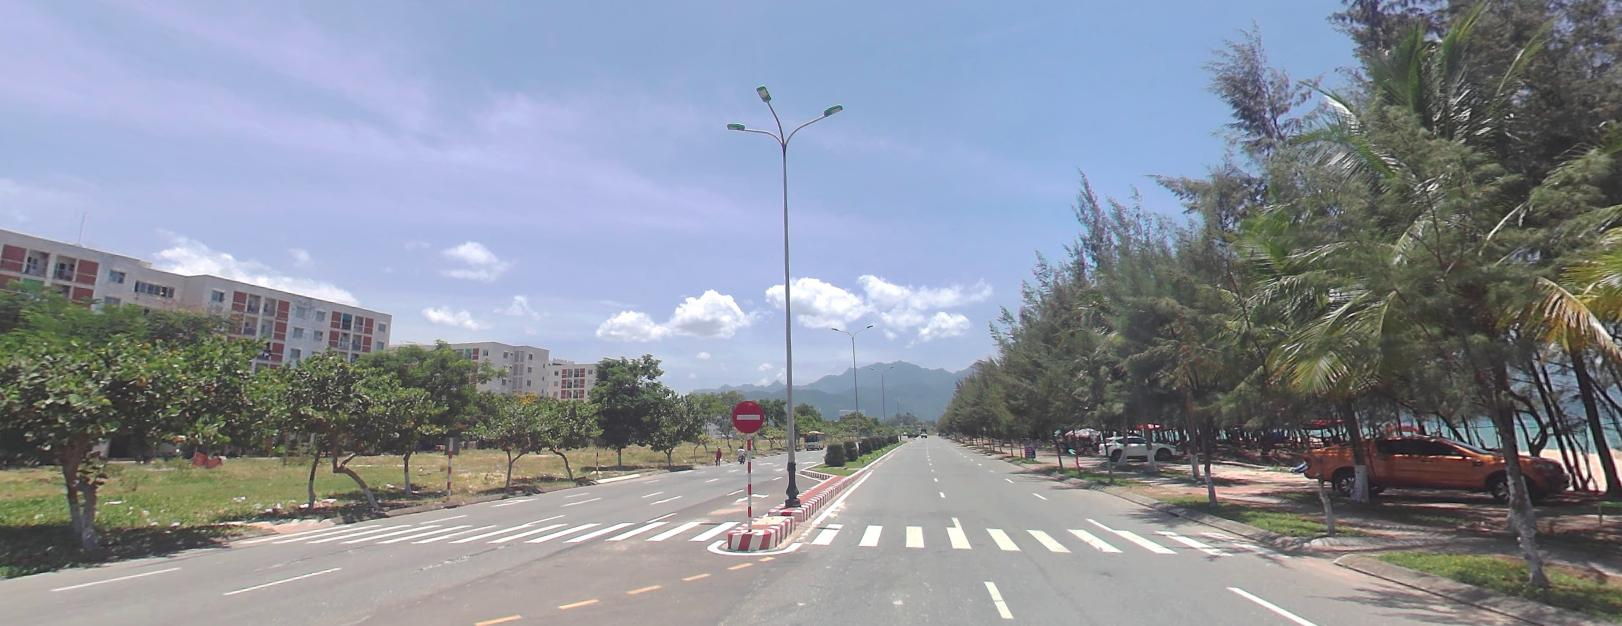Cam nguoc chieu: (731, 399, 763, 431)
